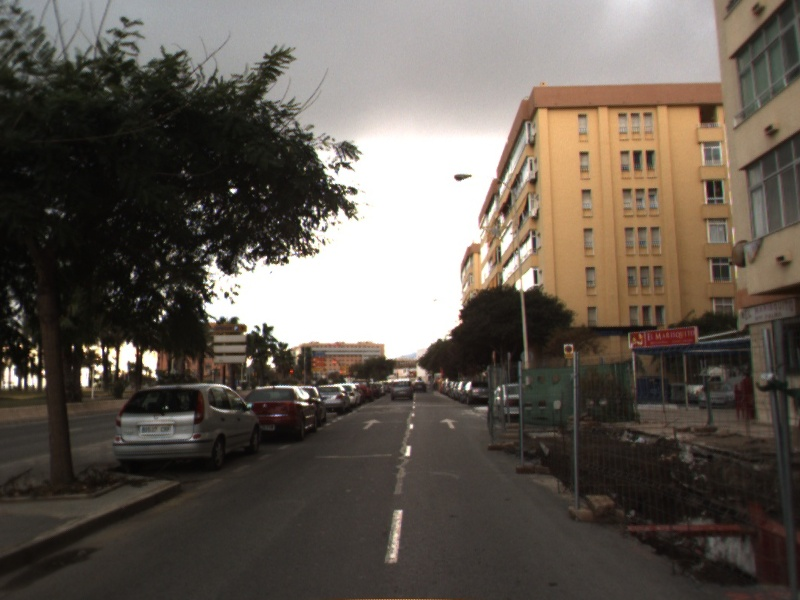STRAIGHT: (361, 417, 384, 431), (438, 417, 460, 430)
